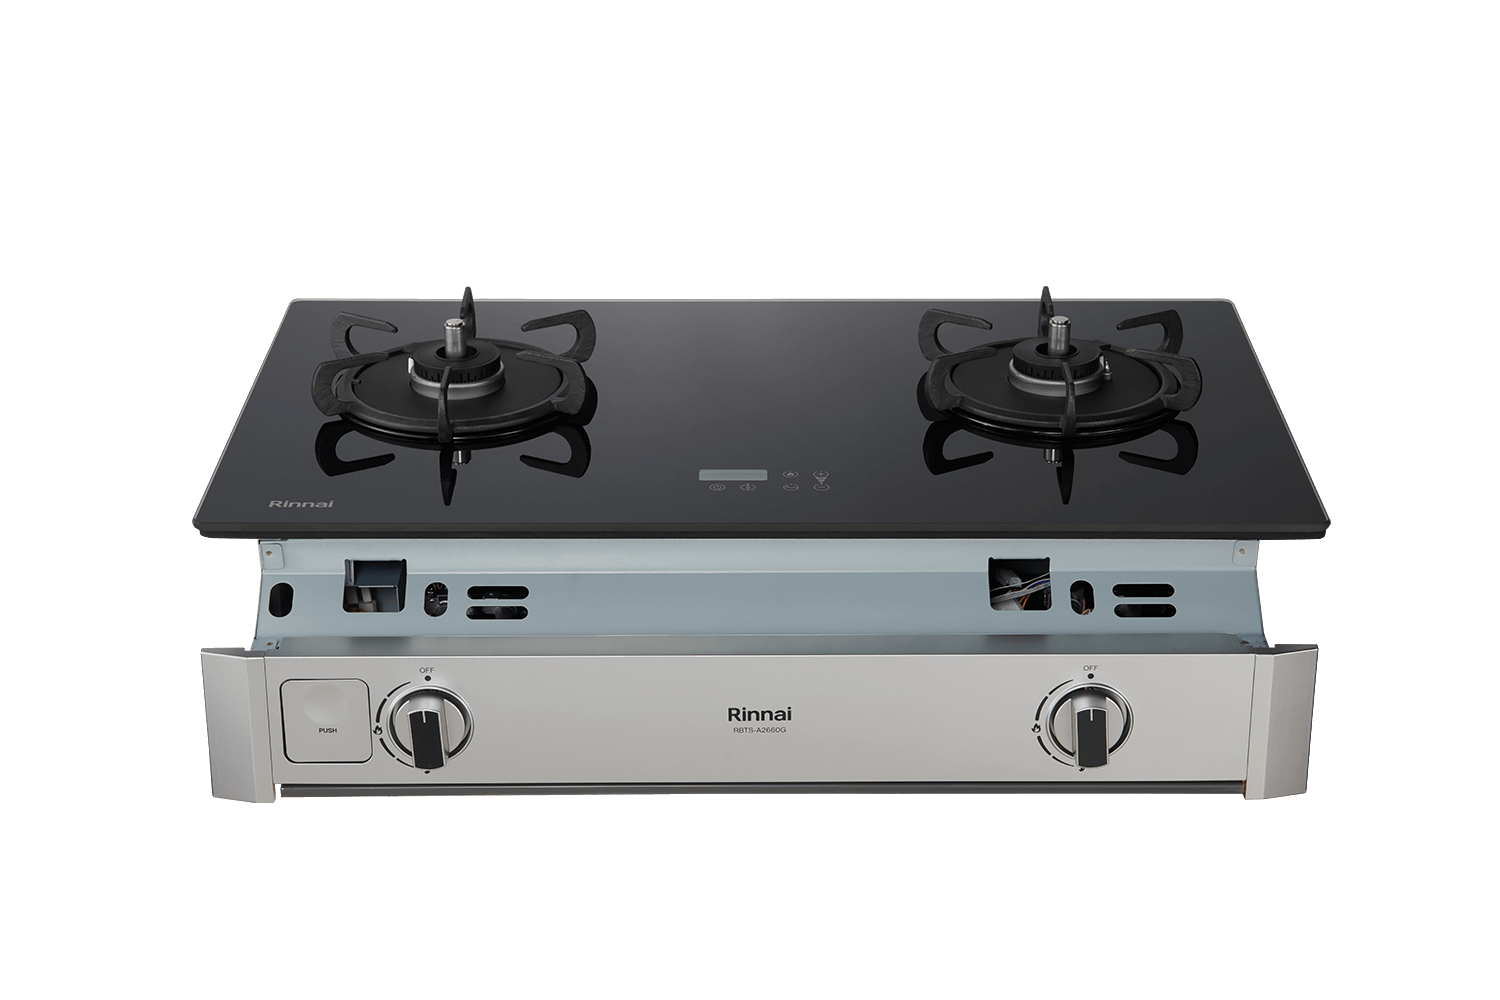gasoven: (185, 287, 1331, 815)
